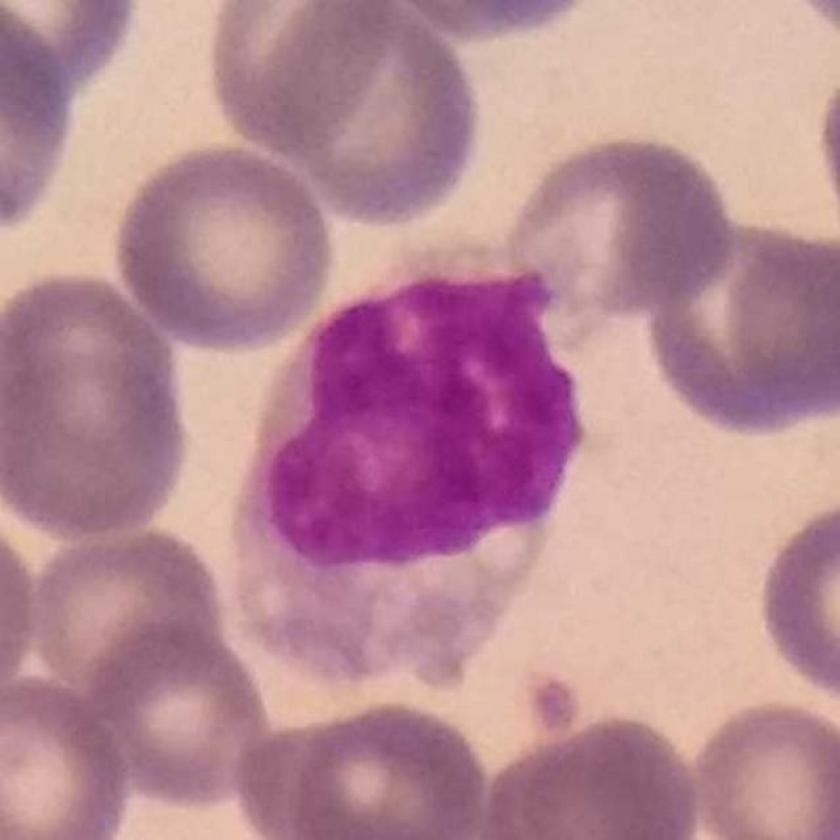monocyte: (235, 248, 597, 697)
